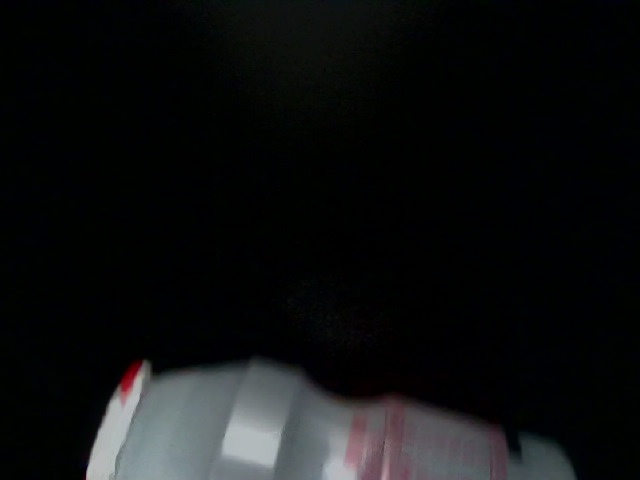CYLJ: (33, 1, 380, 314)
